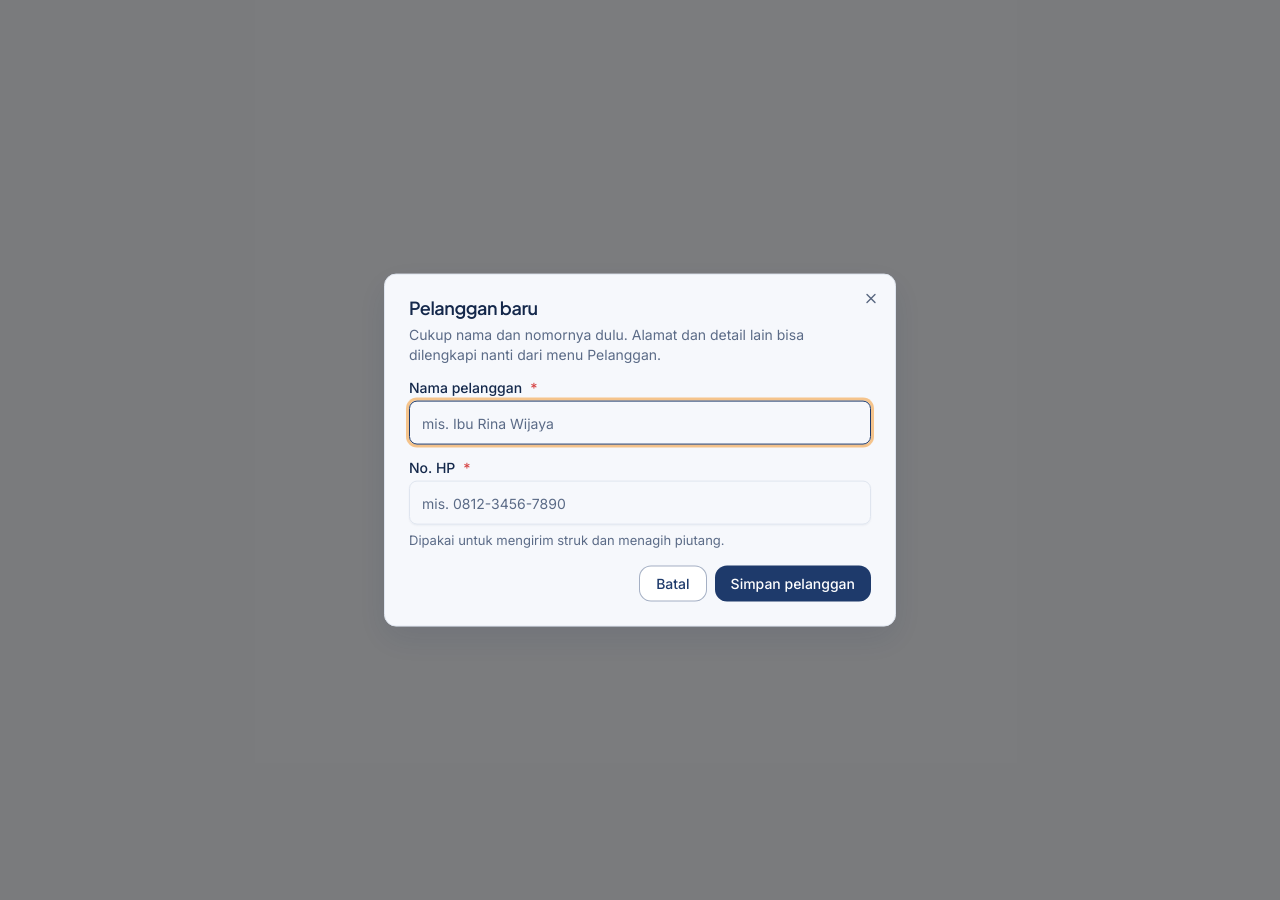
Test: CustomerQuickAddDialog › shows a real failure as an error, not as a warning
This screenshot has width=1280, height=900.
Type "Ibu Rina" into the field labelled "Nama pelanggan *" at (640, 423), box top-left (409, 401), bottom-right (871, 445)
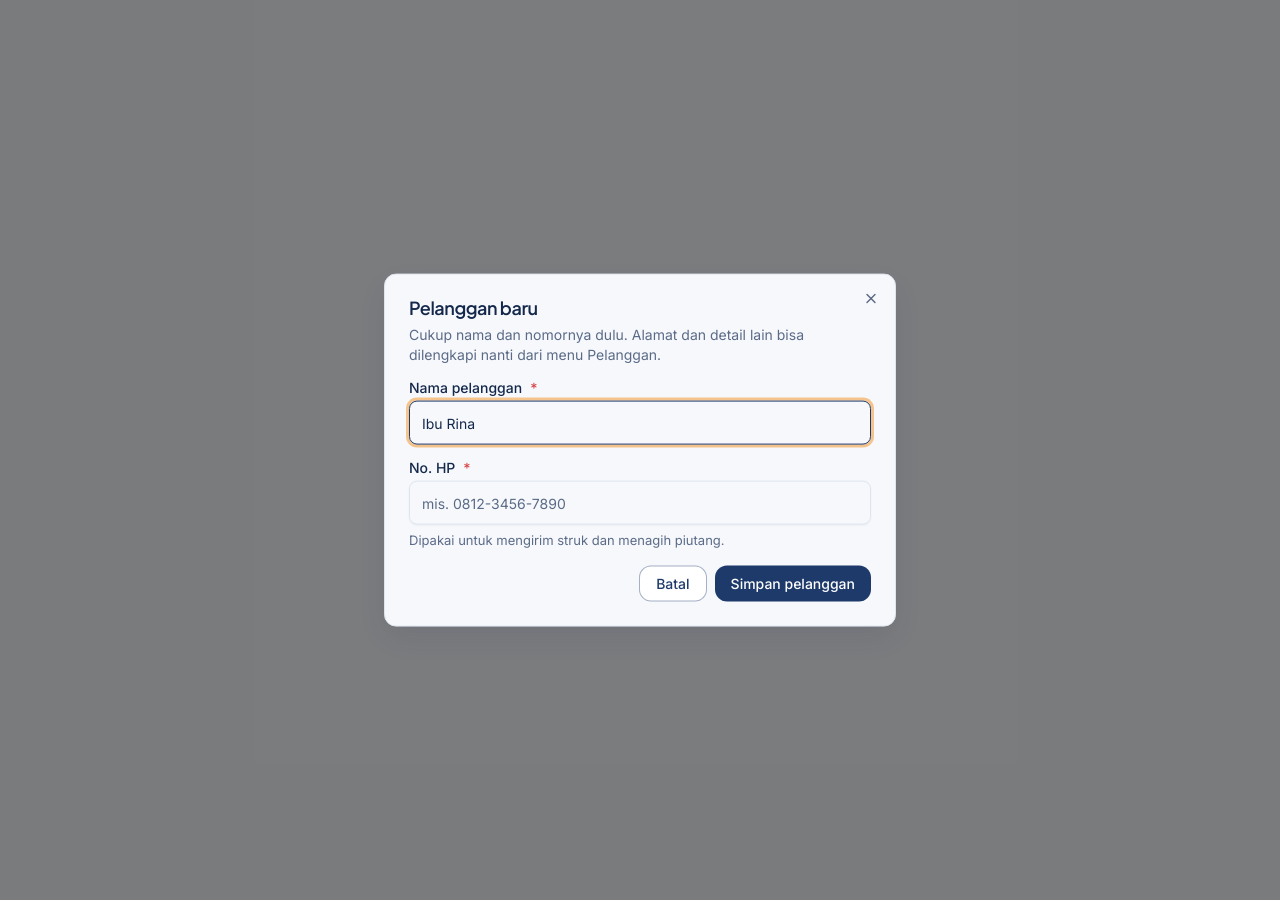
Type "0812" into the field labelled "No. HP *" at (640, 503), box top-left (409, 481), bottom-right (871, 525)
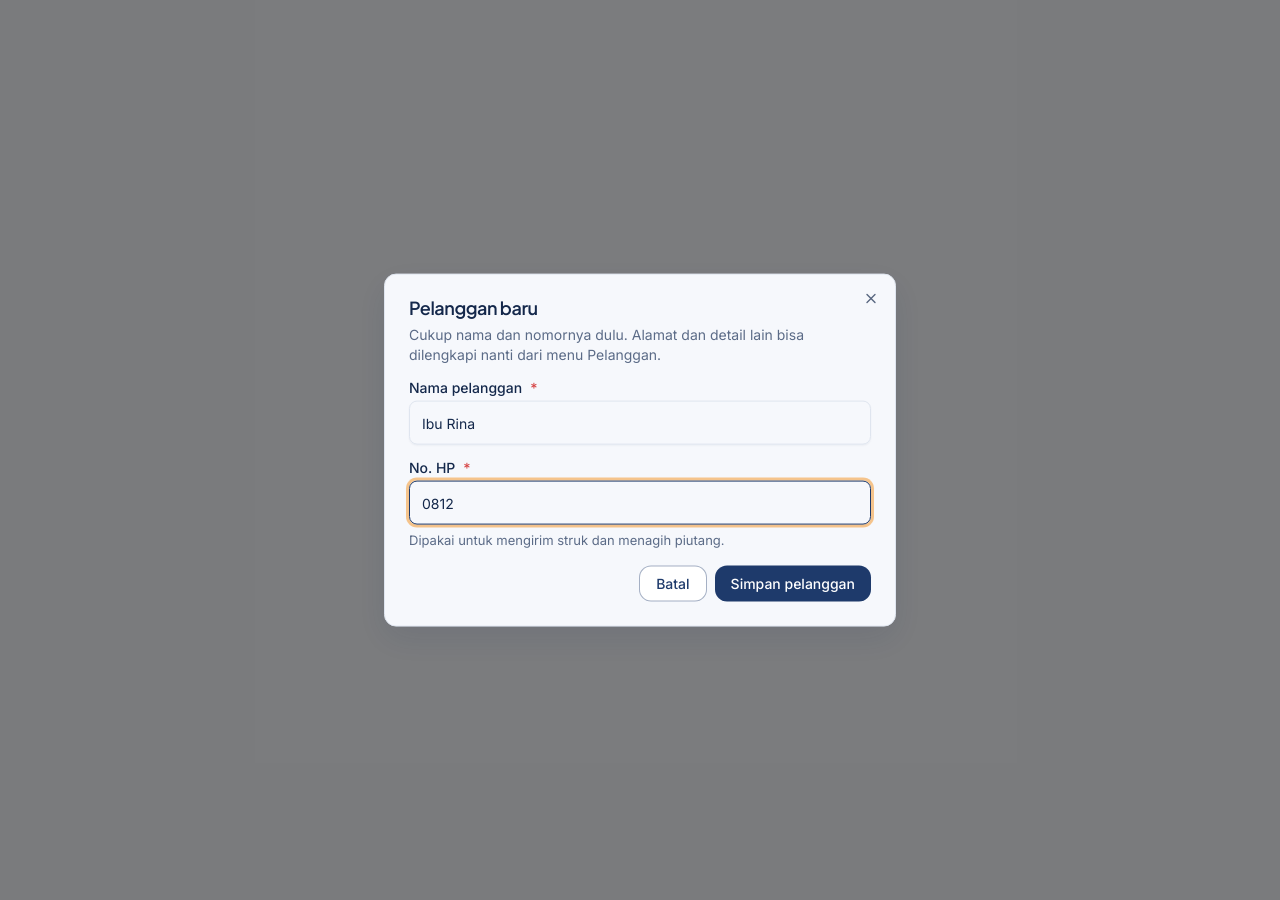
Click the button "Simpan pelanggan" at (793, 583), box top-left (715, 565), bottom-right (871, 601)
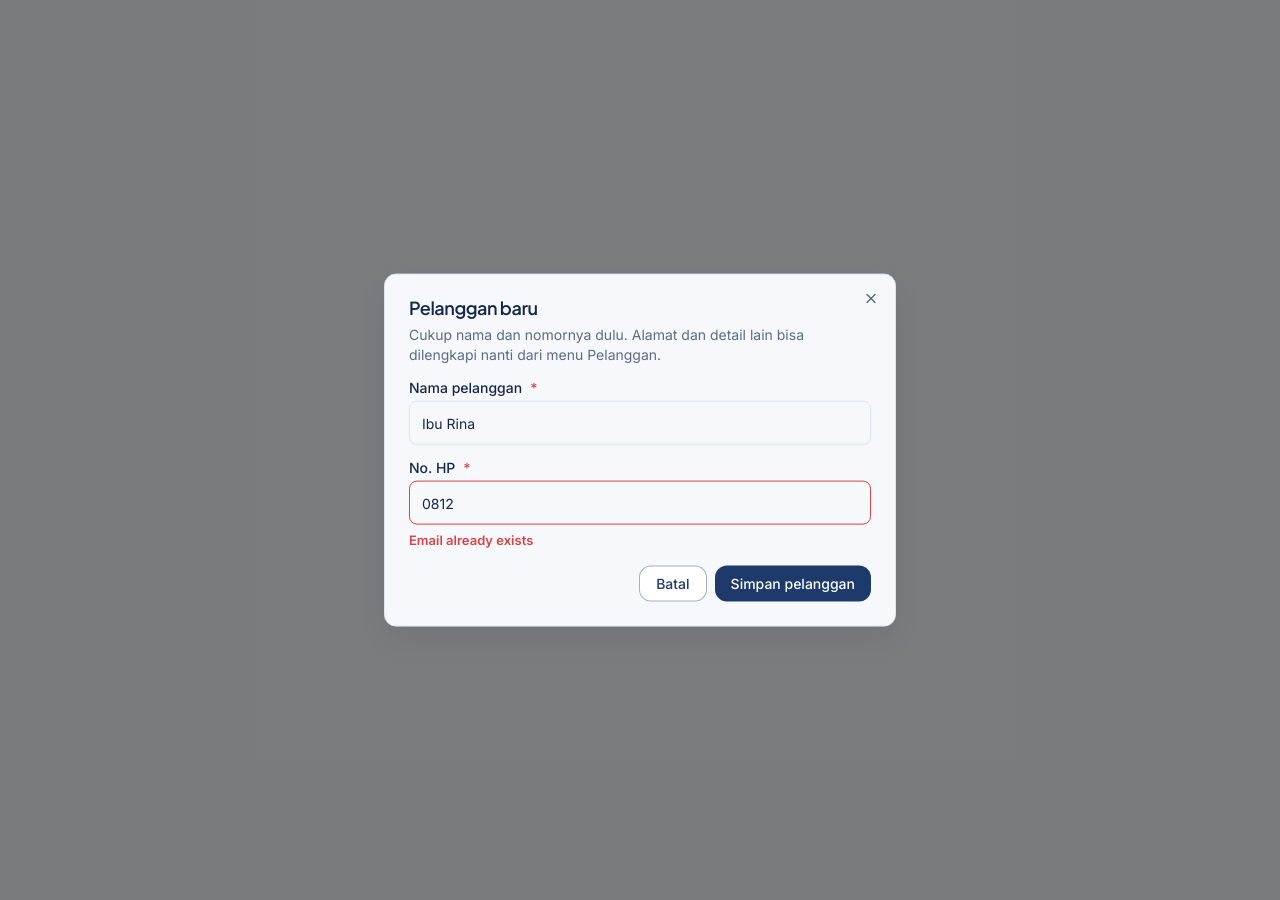
Check: the text "Email already exists" is shown, box top-left (409, 532), bottom-right (533, 548)
